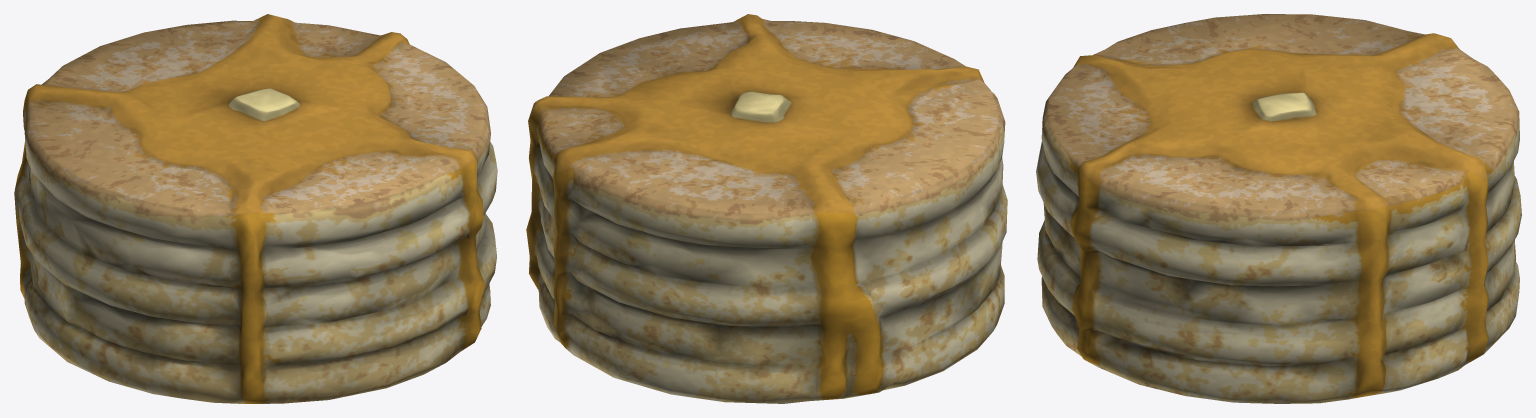
Rendered from s_pancakes_01.fbx.
3 renders of one model, left to right at view 1: azimuth 30°, elevation 25°; view 2: azimuth 150°, elevation 25°; view 3: azimuth 270°, elevation 25°, orthographic.
Parts seen in each view (by area): view 1: s_pancakes_01; view 2: s_pancakes_01; view 3: s_pancakes_01.
Part boxes in pixels (<box>): s_pancakes_01: <box>14,14,497,403</box>; s_pancakes_01: <box>526,14,1007,403</box>; s_pancakes_01: <box>1036,14,1521,403</box>.
Bounding box in the file's own units: 34.85 × 16.6 × 34.93.
